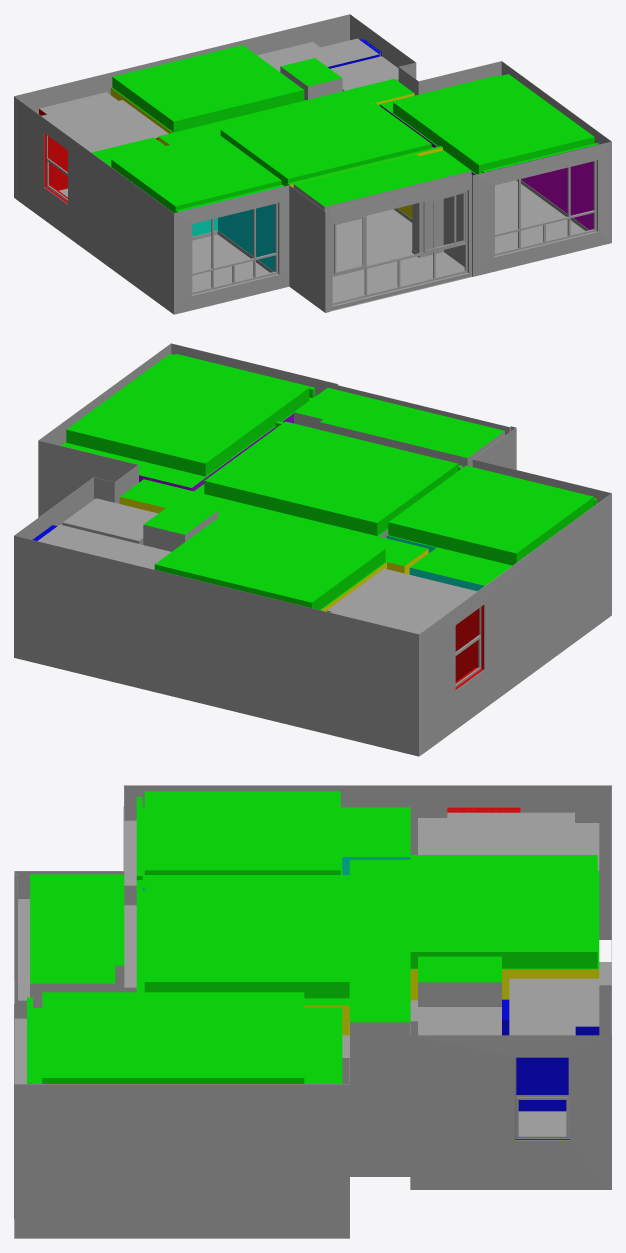
The picture shows the model from 3 angles, top to bottom: view 1: azimuth 30°, elevation 25°; view 2: azimuth 150°, elevation 25°; view 3: azimuth 270°, elevation 25°; orthographic projection. The views are drawn at different scales.
Visible parts, largest first — view 1: polySurface80, polySurface77, polySurface39, polySurface41, polySurface36, polySurface37, polySurface43, polySurface49, polySurface51, polySurface56, polySurface42, wall2 (+2 smaller); view 2: polySurface77, polySurface80, polySurface41, polySurface43, polySurface42, wall2; view 3: polySurface80, polySurface77, polySurface41, polySurface43, wall2, polySurface42, polySurface38.
Boxes of the visible parts, left/top/right/bottom form: polySurface80: left=92, top=45, right=599, bottom=306; polySurface77: left=14, top=14, right=611, bottom=314; polySurface39: left=59, top=188, right=472, bottom=311; polySurface41: left=39, top=92, right=164, bottom=152; polySurface36: left=495, top=180, right=584, bottom=252; polySurface37: left=192, top=234, right=269, bottom=291; polySurface43: left=257, top=38, right=378, bottom=71; polySurface49: left=494, top=160, right=596, bottom=255; polySurface51: left=332, top=190, right=467, bottom=305; polySurface56: left=191, top=202, right=277, bottom=294; polySurface42: left=330, top=56, right=398, bottom=90; wall2: left=39, top=39, right=398, bottom=203; polySurface77: left=14, top=343, right=611, bottom=756; polySurface80: left=61, top=354, right=597, bottom=612; polySurface41: left=331, top=570, right=476, bottom=633; polySurface43: left=37, top=524, right=170, bottom=569; polySurface42: left=63, top=498, right=158, bottom=540; wall2: left=32, top=522, right=483, bottom=689; polySurface80: left=14, top=791, right=611, bottom=1083; polySurface77: left=14, top=785, right=611, bottom=1238; polySurface41: left=418, top=812, right=599, bottom=870; polySurface43: left=509, top=978, right=599, bottom=1035; wall2: left=447, top=807, right=599, bottom=1139; polySurface42: left=418, top=1007, right=501, bottom=1035; polySurface38: left=518, top=1111, right=566, bottom=1135.
Size of the model in its own units: 1162 by 280 by 982.
